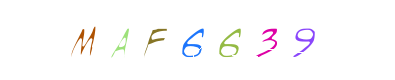3: (229, 0, 309, 80)
6: (154, 0, 234, 80), (157, 0, 237, 80)
9: (265, 0, 345, 80)
A: (142, 0, 222, 80)
F: (153, 0, 233, 80)
M: (75, 0, 155, 80)
